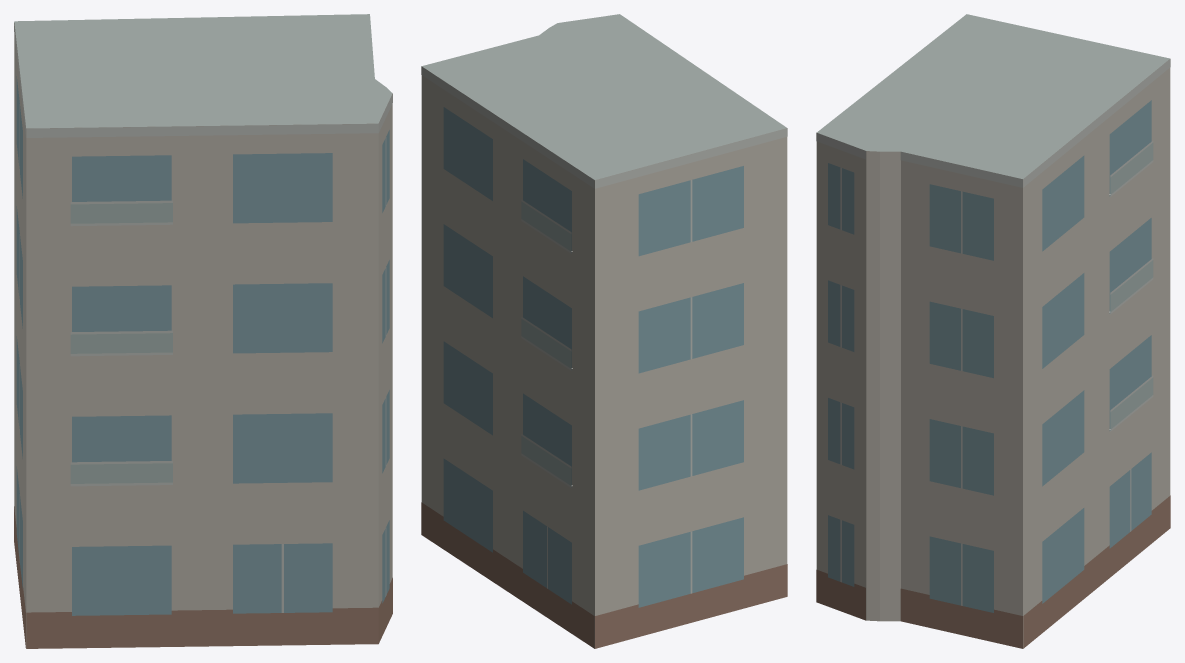
File: survey-upis-32723669.glb
3 renders of one model, left to right at view 1: azimuth 30°, elevation 25°; view 2: azimuth 150°, elevation 25°; view 3: azimuth 270°, elevation 25°, orthographic. The views are drawn at different scales.
Parts seen in each view (by area): view 1: survey-upis-32723669.tmp; view 2: survey-upis-32723669.tmp; view 3: survey-upis-32723669.tmp.
Boxes of the visible parts, x1=… form: survey-upis-32723669.tmp: x1=14, y1=14, x2=392, y2=648; survey-upis-32723669.tmp: x1=421, y1=14, x2=787, y2=648; survey-upis-32723669.tmp: x1=816, y1=14, x2=1170, y2=648.
Size of the model in its own units: 9.97 by 13.2 by 9.02.
